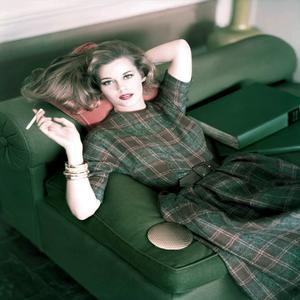cigarette: (23, 108, 47, 133)
